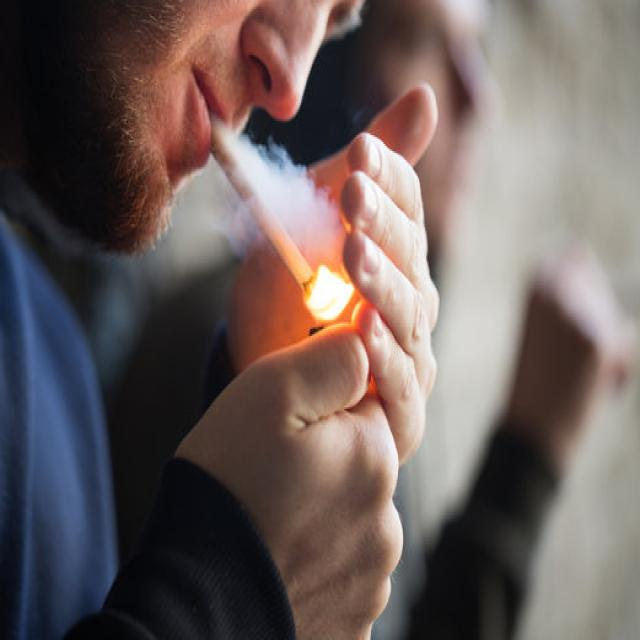fire: (305, 264, 354, 320)
